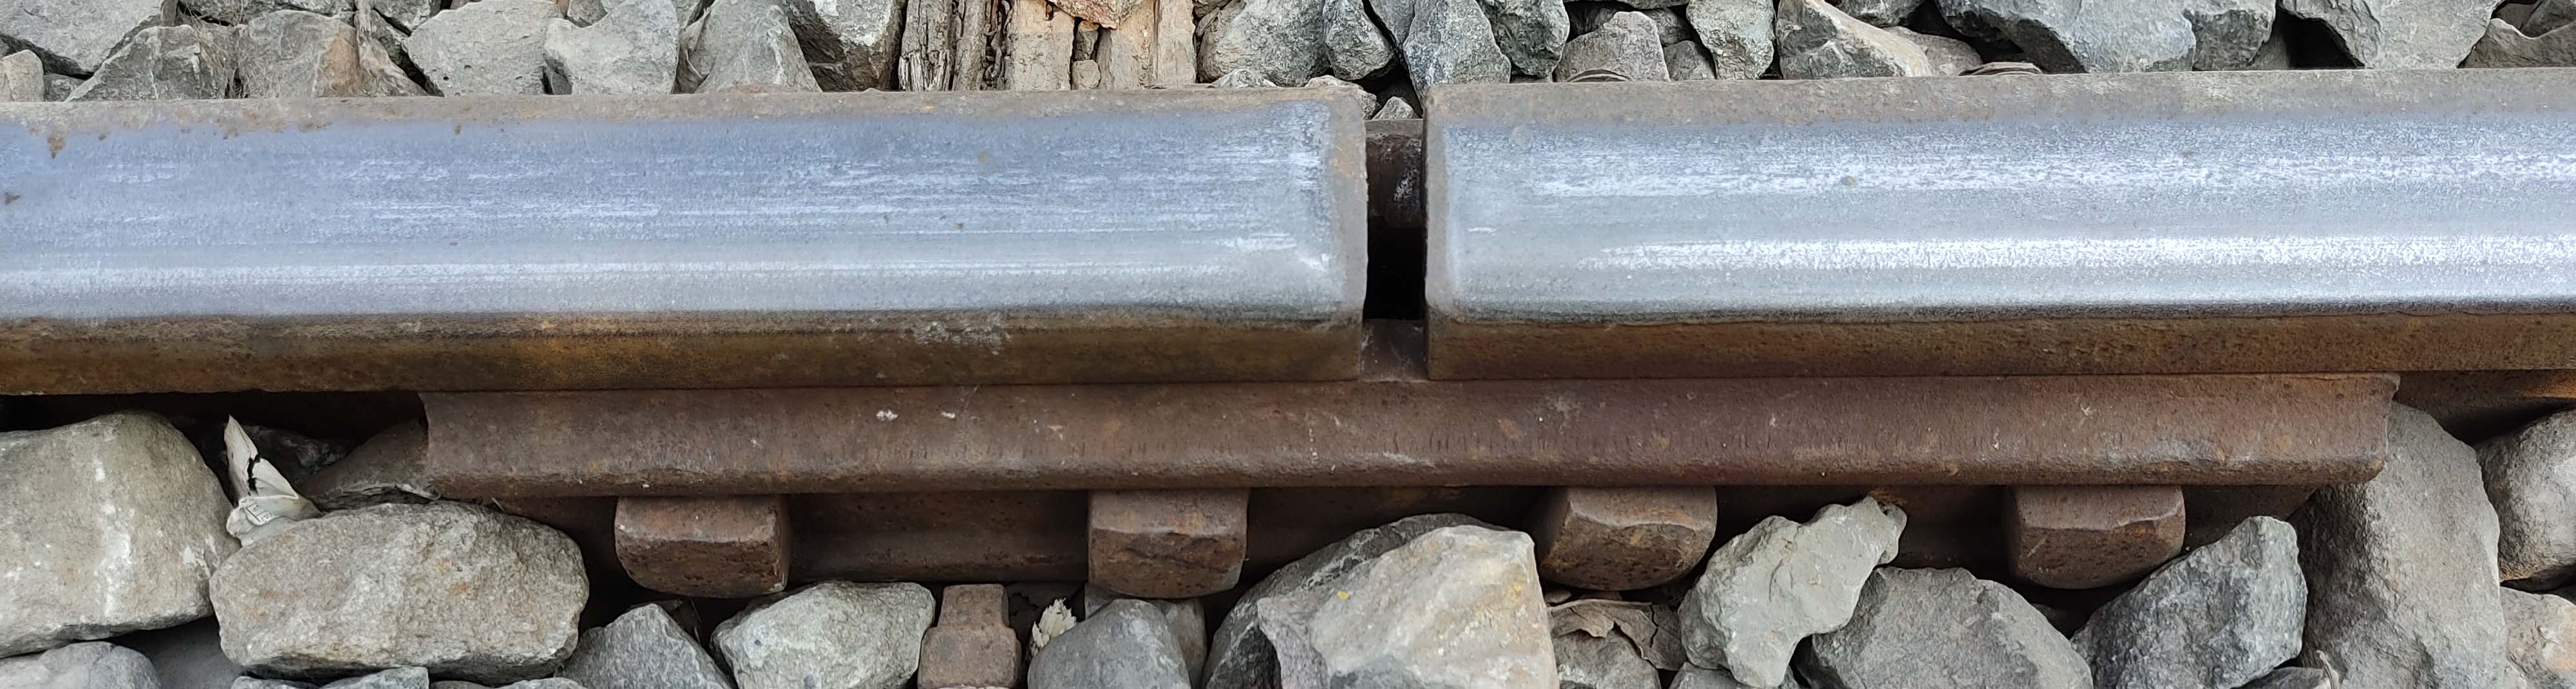error2: (1304, 53, 1551, 439)
